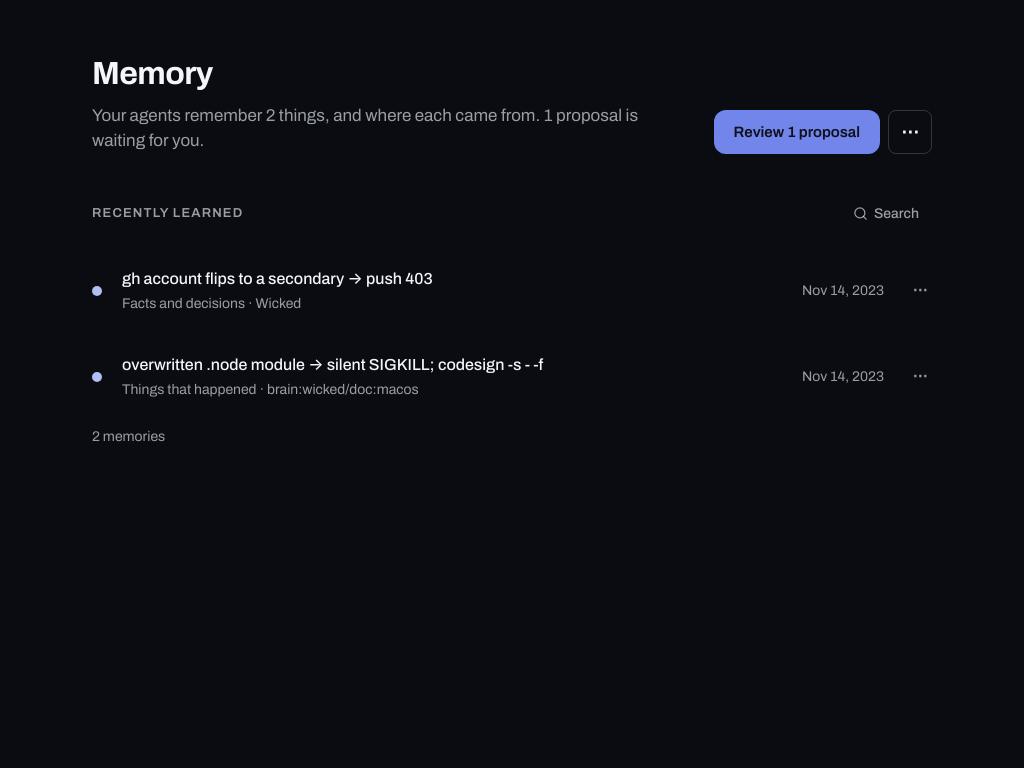
Test: MemoryPage — the store, read honestly › the sentence and the kind picker read the store totals (GET /memory/coverage), newest memory first
Expected: the element with test id "memory-sentence" shows "Your agents remember 2 things", [92,106,638,150]
Expected: the button with test id "memory-view-proposals" reads "Review 1 proposal", [714,110,880,154]
Step 1. Click the button with test id "memories-search-open" → point(886, 214), box [840,194,932,234]
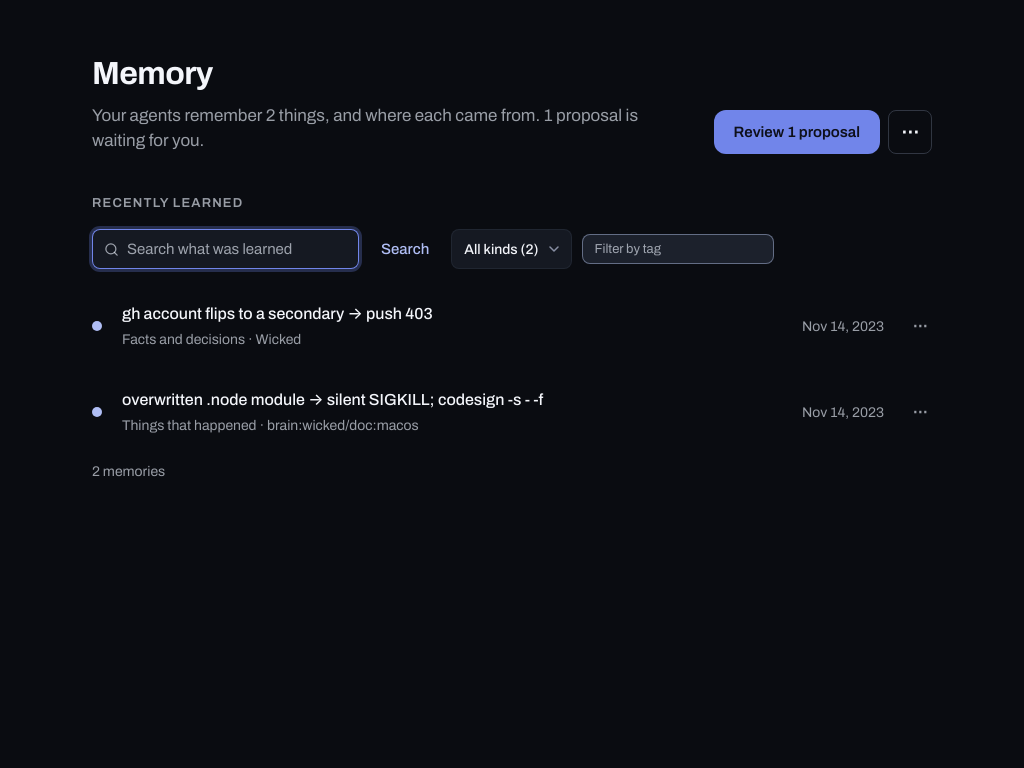
Expected: the text with test id "memory-where" reads "Wicked", [256,332,301,347]
Step 2. Click the 1st button with test id "memory-open" → point(277, 314), box [72,285,892,367]
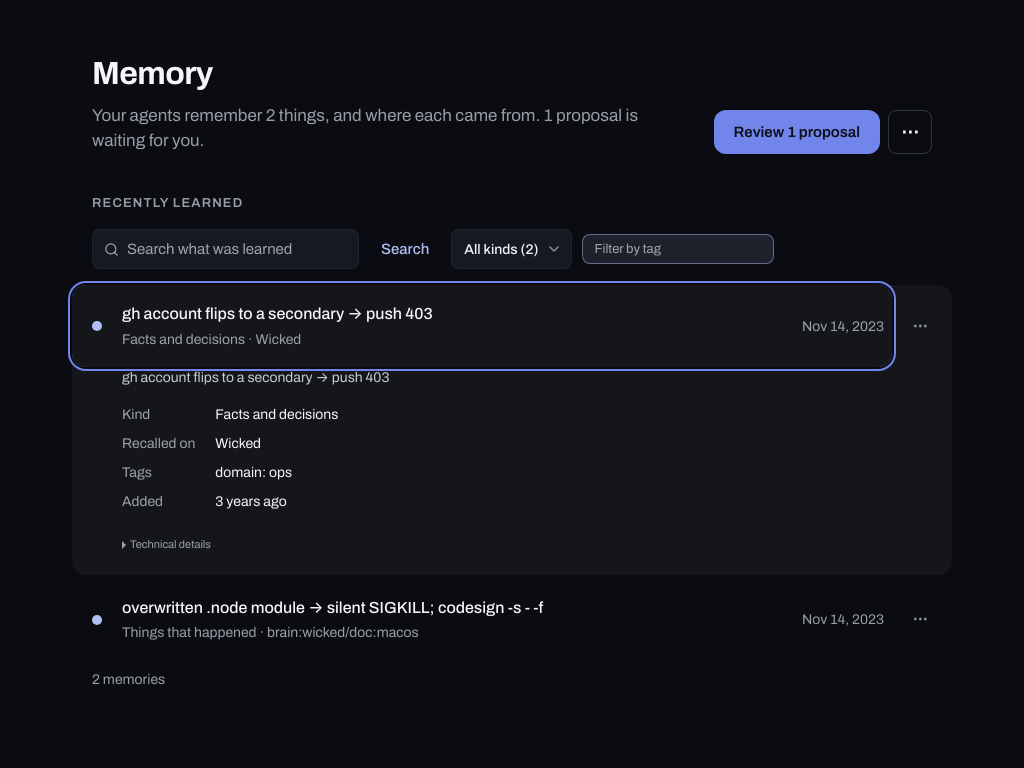
Result: the text with test id "memory-tier" reads "Facts and decisions" at [215,407,338,422]
